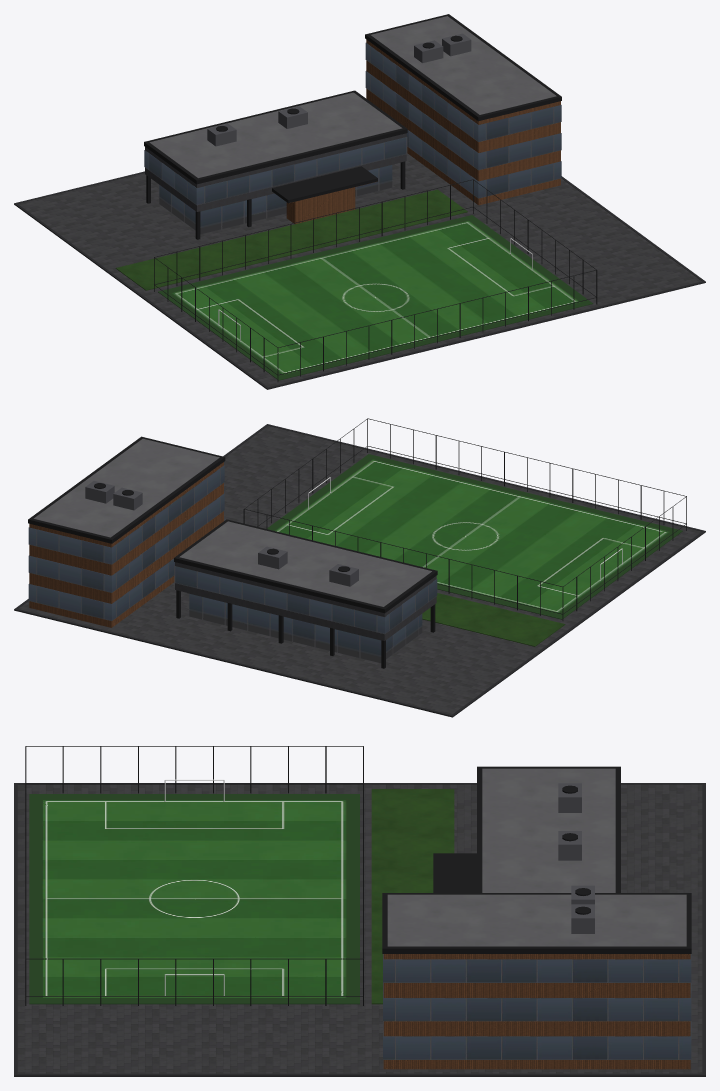
The model's file is academy_L3.glb.
3 views of the same model, one above another, from view 1: azimuth 30°, elevation 25°; view 2: azimuth 150°, elevation 25°; view 3: azimuth 270°, elevation 25° (orthographic). The views are drawn at different scales.
Parts seen in each view (by area): view 1: turf_acad_academy_L3, paving_academy_L3, emissive_curtain_academy_L3, roofing_academy_L3, black_metal_academy_L3, lawn_academy_L3, wood_academy_L3, concrete_dark_academy_L3, cladding_academy_L3, steel_academy_L3; view 2: turf_acad_academy_L3, paving_academy_L3, emissive_curtain_academy_L3, roofing_academy_L3, black_metal_academy_L3, wood_academy_L3, lawn_academy_L3, concrete_dark_academy_L3, cladding_academy_L3, steel_academy_L3; view 3: turf_acad_academy_L3, paving_academy_L3, roofing_academy_L3, emissive_curtain_academy_L3, wood_academy_L3, black_metal_academy_L3, lawn_academy_L3, concrete_dark_academy_L3, steel_academy_L3.
Boxes of the visible parts, x1,y1,x2,y2 form: turf_acad_academy_L3: [158, 215, 593, 380]; paving_academy_L3: [18, 153, 701, 387]; emissive_curtain_academy_L3: [144, 43, 561, 234]; roofing_academy_L3: [149, 16, 556, 178]; black_metal_academy_L3: [144, 14, 597, 381]; lawn_academy_L3: [115, 189, 467, 290]; wood_academy_L3: [286, 39, 560, 224]; concrete_dark_academy_L3: [14, 171, 705, 389]; cladding_academy_L3: [145, 133, 406, 211]; steel_academy_L3: [207, 33, 471, 146]; turf_acad_academy_L3: [267, 454, 682, 619]; paving_academy_L3: [18, 425, 701, 714]; emissive_curtain_academy_L3: [28, 465, 437, 663]; roofing_academy_L3: [33, 438, 431, 606]; black_metal_academy_L3: [28, 418, 686, 668]; wood_academy_L3: [29, 462, 223, 627]; lawn_academy_L3: [422, 593, 565, 646]; concrete_dark_academy_L3: [14, 424, 705, 717]; cladding_academy_L3: [175, 562, 436, 640]; steel_academy_L3: [85, 481, 358, 586]; turf_acad_academy_L3: [29, 794, 359, 1004]; paving_academy_L3: [17, 784, 702, 1073]; roofing_academy_L3: [387, 768, 686, 946]; emissive_curtain_academy_L3: [383, 954, 691, 1059]; wood_academy_L3: [383, 954, 690, 1069]; black_metal_academy_L3: [25, 746, 691, 1005]; lawn_academy_L3: [371, 789, 454, 1004]; concrete_dark_academy_L3: [14, 783, 705, 1076]; steel_academy_L3: [558, 783, 594, 933].
Size of the model in its own units: 58.6 by 13.04 by 58.6.
Materials: 11 (7 with a texture image).
